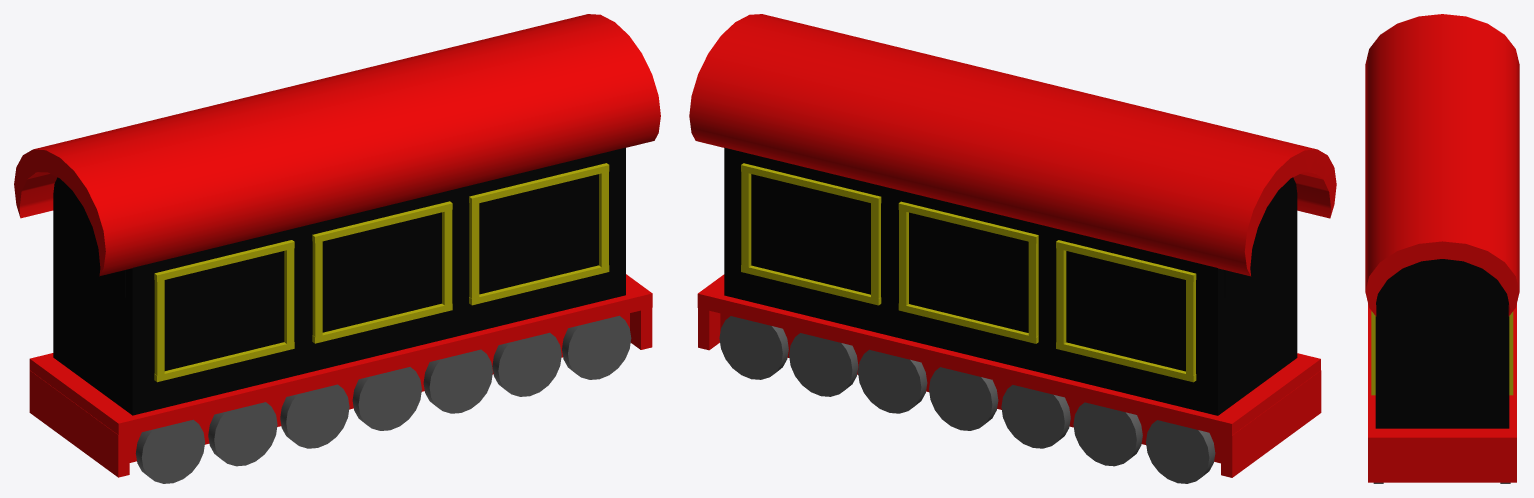
Rendered from PassengerCar.fbx.
3 views of the same model, side by side, from view 1: azimuth 30°, elevation 25°; view 2: azimuth 150°, elevation 25°; view 3: azimuth 270°, elevation 25° (orthographic). The views are drawn at different scales.
Visible parts, largest first — view 1: pCube53; view 2: pCube53; view 3: pCube53.
Boxes of the visible parts, x1=… form: pCube53: x1=14, y1=14, x2=660, y2=483; pCube53: x1=689, y1=14, x2=1336, y2=483; pCube53: x1=1365, y1=14, x2=1519, y2=483.
Size of the model in its own units: 16.95 by 9.14 by 4.86.
